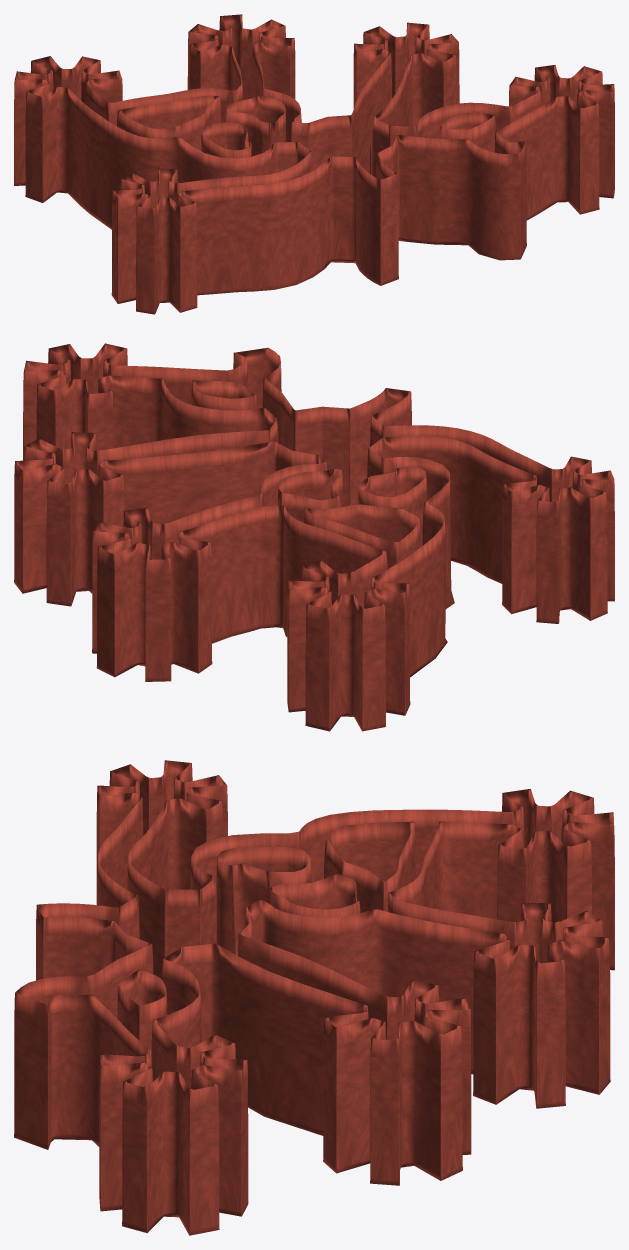
Rendered from level2_new.fbx.
The picture shows the model from 3 angles, top to bottom: view 1: azimuth 30°, elevation 25°; view 2: azimuth 150°, elevation 25°; view 3: azimuth 270°, elevation 25°; orthographic projection. The views are drawn at different scales.
Visible parts, largest first — view 1: polySurface9; view 2: polySurface9; view 3: polySurface9.
Part boxes in pixels (left/top/right/bottom): polySurface9: left=14, top=14, right=614, bottom=314; polySurface9: left=14, top=343, right=614, bottom=731; polySurface9: left=14, top=760, right=614, bottom=1235.
Bounding box in the file's own units: 143 × 29.45 × 109.
